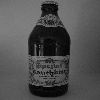beer: (29, 1, 72, 99)
